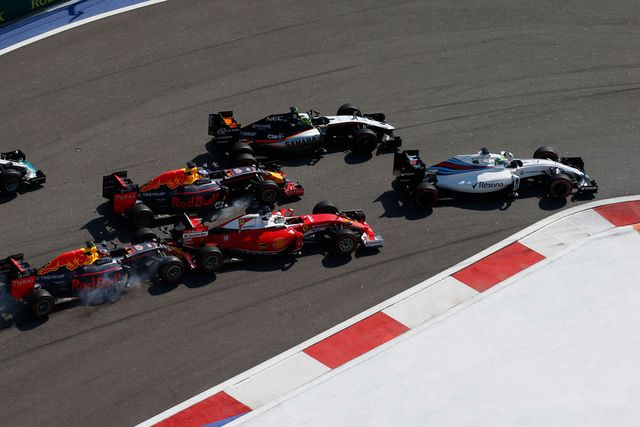f1_car: (1, 233, 194, 328), (384, 132, 601, 213), (171, 199, 389, 268), (90, 160, 311, 228), (201, 100, 406, 165)
